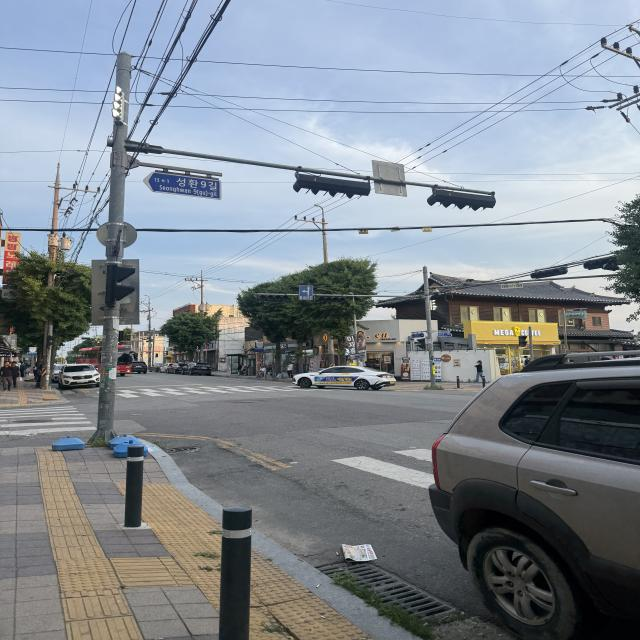car: (433, 341, 640, 640), (73, 344, 144, 382), (298, 366, 388, 390), (58, 364, 110, 391), (192, 363, 213, 381)
